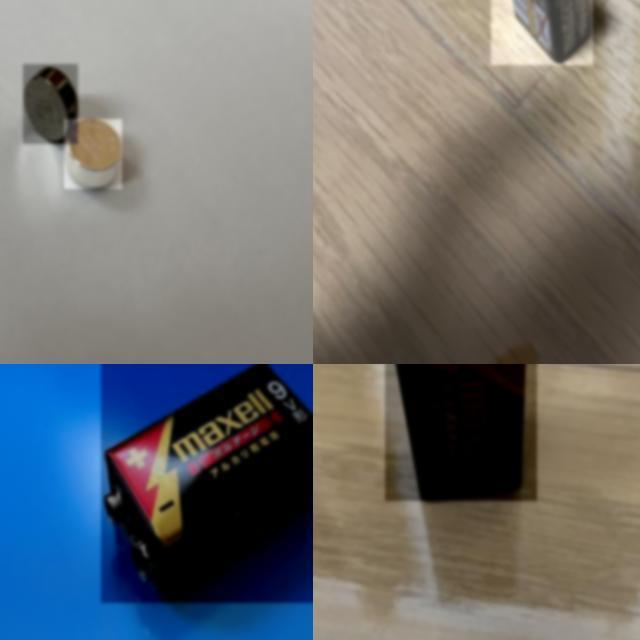9V: (101, 364, 313, 602), (385, 364, 537, 501), (490, 0, 593, 65)
